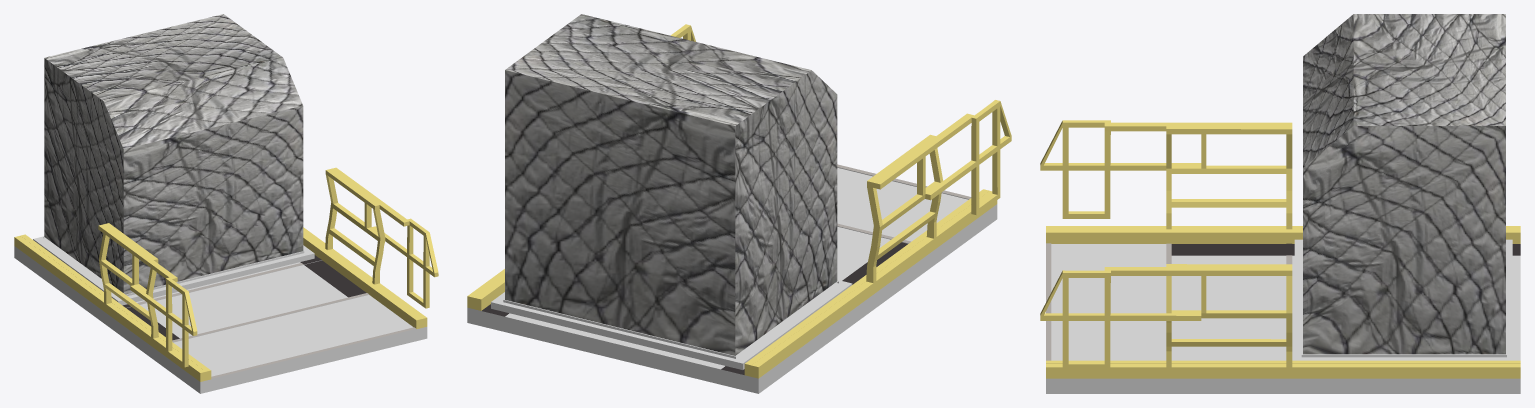
The model's file is lift.fbx.
3 views of the same model, side by side, from view 1: azimuth 30°, elevation 25°; view 2: azimuth 150°, elevation 25°; view 3: azimuth 270°, elevation 25° (orthographic). The views are drawn at different scales.
Visible parts, largest first — view 1: Cube.005, Cube, Cube.001; view 2: Cube.005, Cube, Cube.001; view 3: Cube.005, Cube, Cube.001.
Part boxes in pixels (<box>): Cube.005: <box>43,14,304,295</box>; Cube: <box>14,167,438,393</box>; Cube.001: <box>33,236,314,305</box>; Cube.005: <box>503,14,838,358</box>; Cube: <box>467,24,1011,393</box>; Cube.001: <box>491,280,852,369</box>; Cube.005: <box>1301,14,1506,357</box>; Cube: <box>1040,120,1520,393</box>; Cube.001: <box>1294,239,1512,360</box>.
Size of the model in its own units: 430 by 333 by 571.
